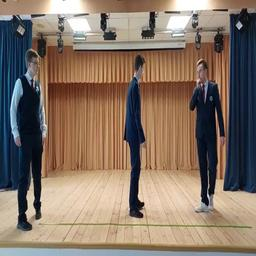person: (10, 49, 47, 231), (190, 59, 226, 211), (124, 56, 147, 218)
